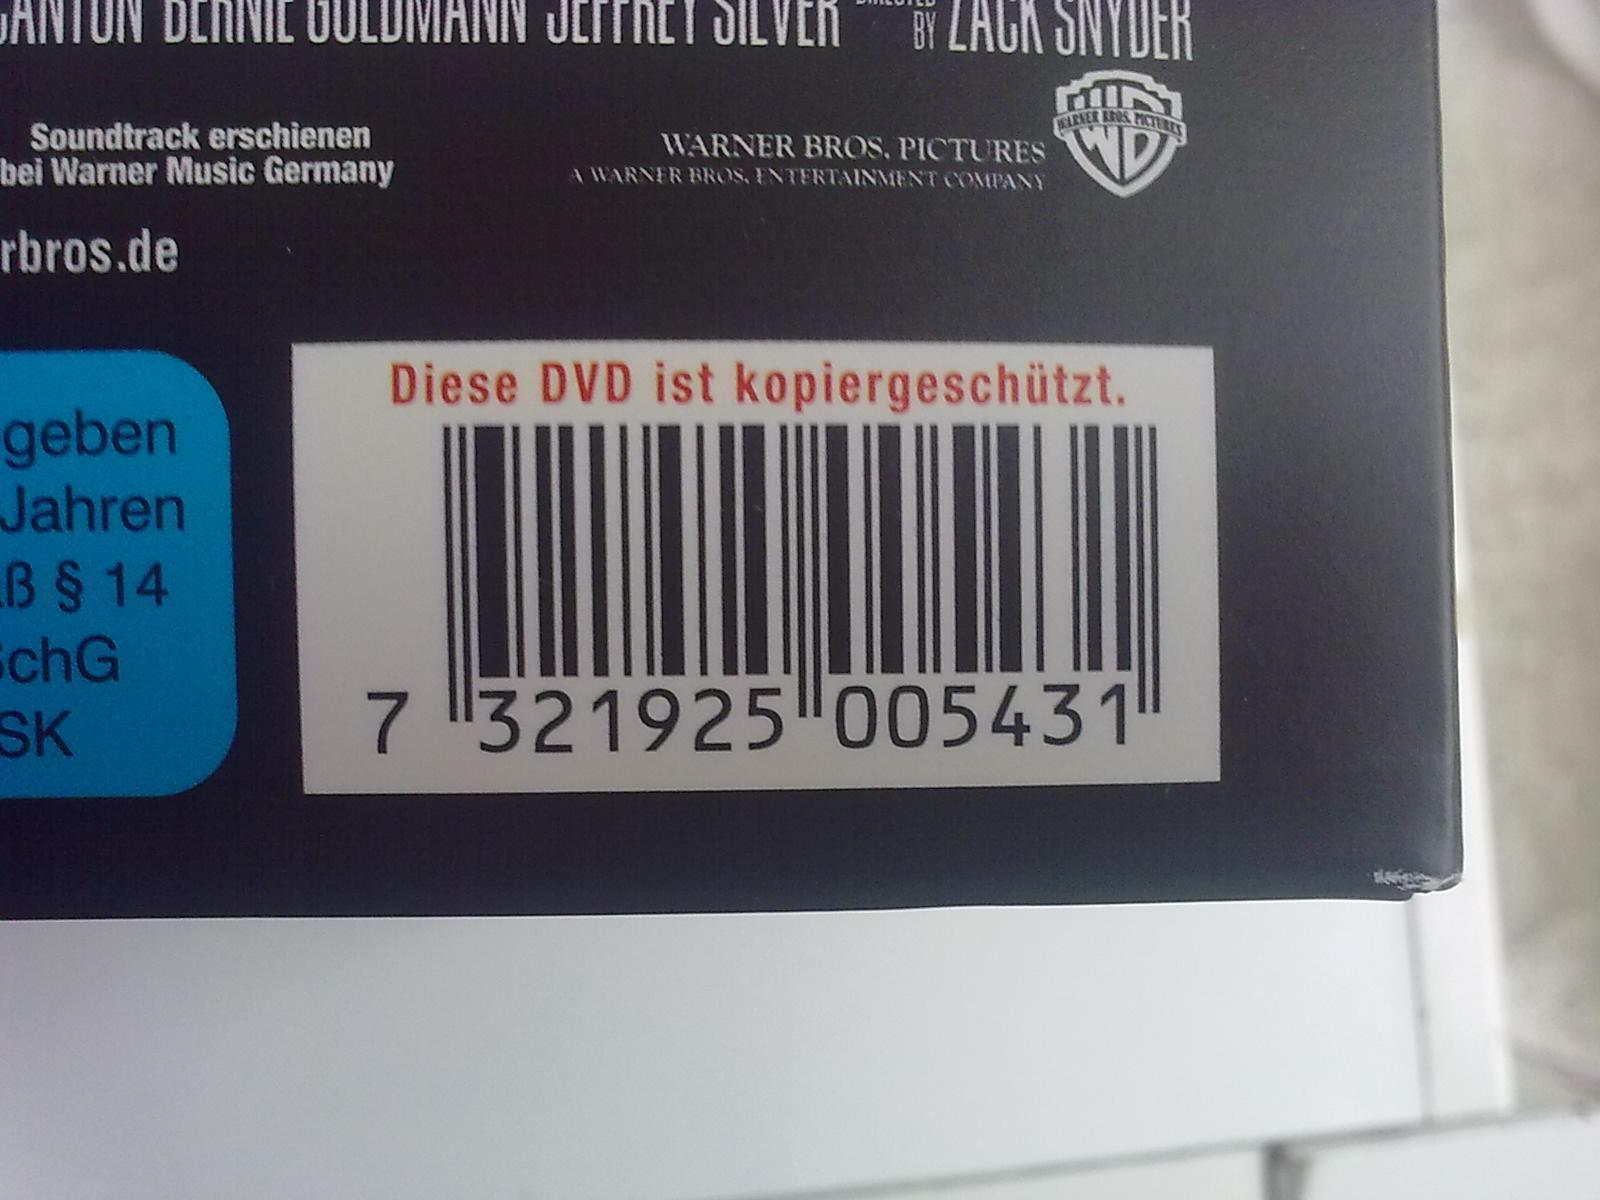barcode: (290, 338, 1223, 795)
